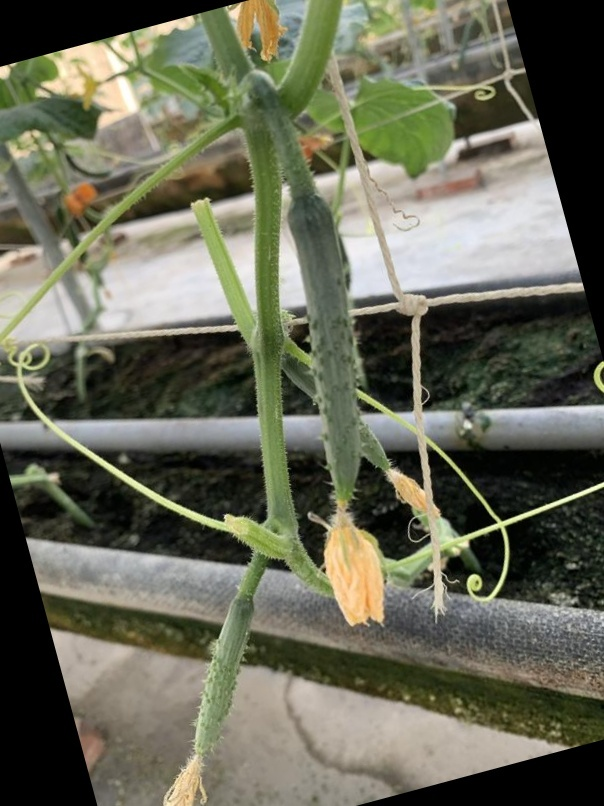bear: (61, 591, 271, 806)
growth: (278, 190, 378, 596)
